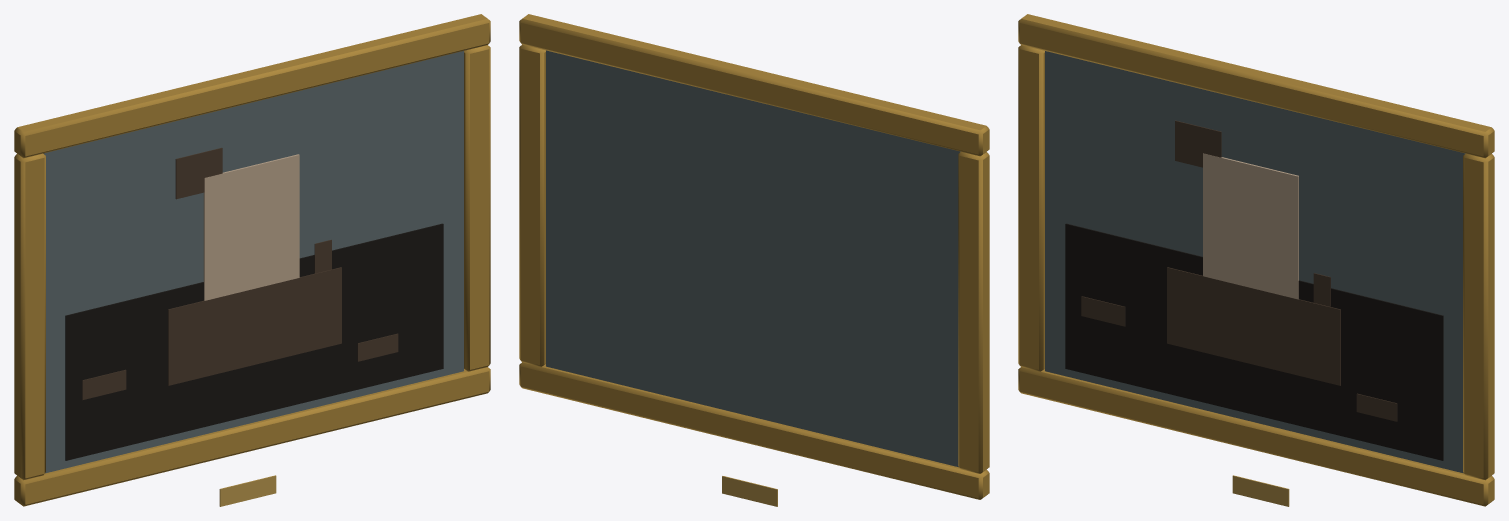
Rendered from painting_b.glb.
The picture shows the model from 3 angles, left to right: view 1: azimuth 30°, elevation 25°; view 2: azimuth 150°, elevation 25°; view 3: azimuth 330°, elevation 25°; orthographic projection.
Visible parts, largest first — view 1: PaintingB; view 2: PaintingB; view 3: PaintingB.
Part boxes in pixels (x1=…): PaintingB: x1=14, y1=14, x2=490, y2=506; PaintingB: x1=519, y1=14, x2=989, y2=506; PaintingB: x1=1018, y1=14, x2=1494, y2=506.
Bounding box in the file's own units: 1.68 × 1.47 × 0.06.
